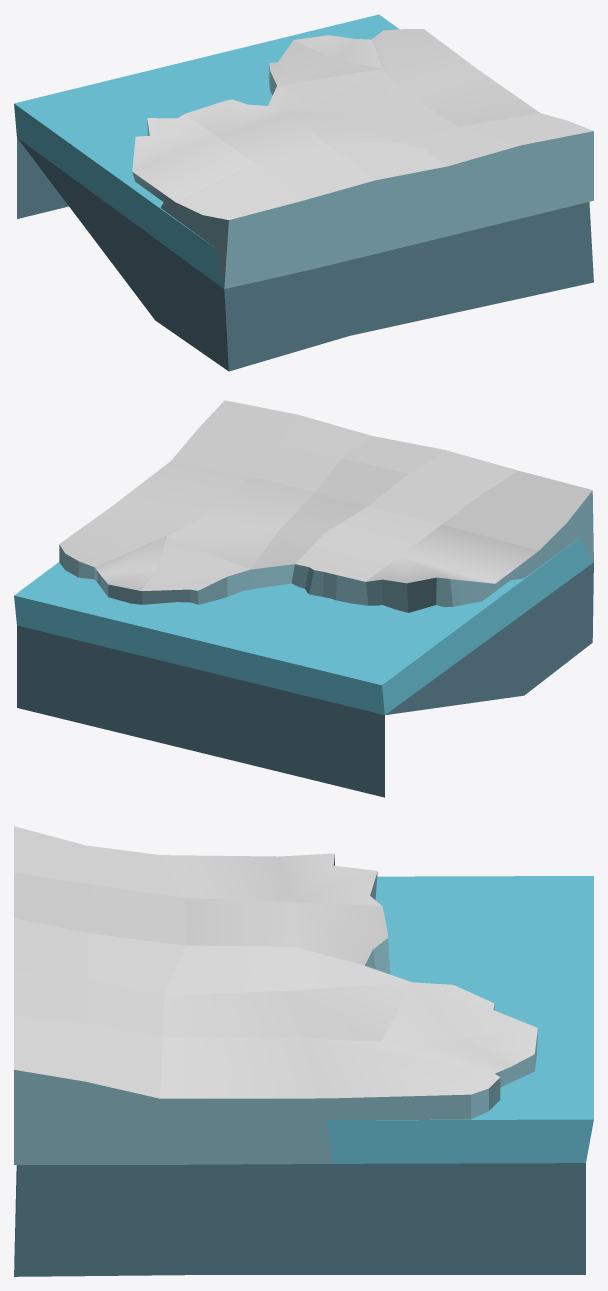
Rendered from ice03.fbx.
The picture shows the model from 3 angles, top to bottom: view 1: azimuth 30°, elevation 25°; view 2: azimuth 150°, elevation 25°; view 3: azimuth 270°, elevation 25°; orthographic projection. The views are drawn at different scales.
Visible parts, largest first — view 1: nature_artic_terrain, nature_artic_terrain_water; view 2: nature_artic_terrain, nature_artic_terrain_water; view 3: nature_artic_terrain, nature_artic_terrain_water.
Part boxes in pixels (bbox=[...]): nature_artic_terrain: bbox=[17, 29, 593, 371]; nature_artic_terrain_water: bbox=[14, 14, 399, 288]; nature_artic_terrain: bbox=[17, 400, 593, 797]; nature_artic_terrain_water: bbox=[14, 538, 593, 714]; nature_artic_terrain: bbox=[14, 826, 585, 1276]; nature_artic_terrain_water: bbox=[325, 876, 593, 1163].
Bounding box in the file's own units: 20.16 × 8.14 × 20.12.
